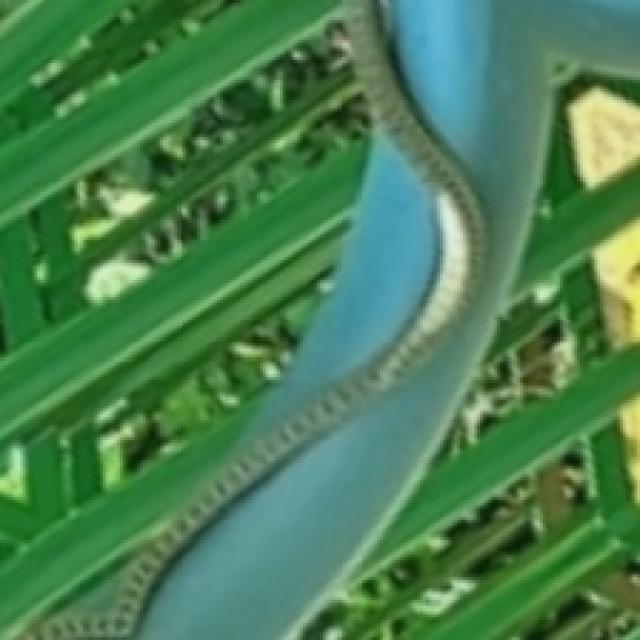paradise tree snake: (0, 3, 543, 637), (217, 160, 354, 274)
